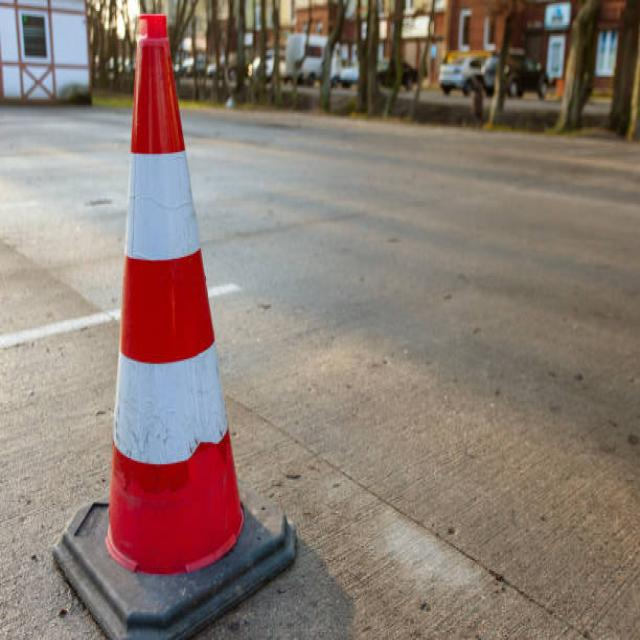Traffic Cone: (31, 0, 293, 640)
